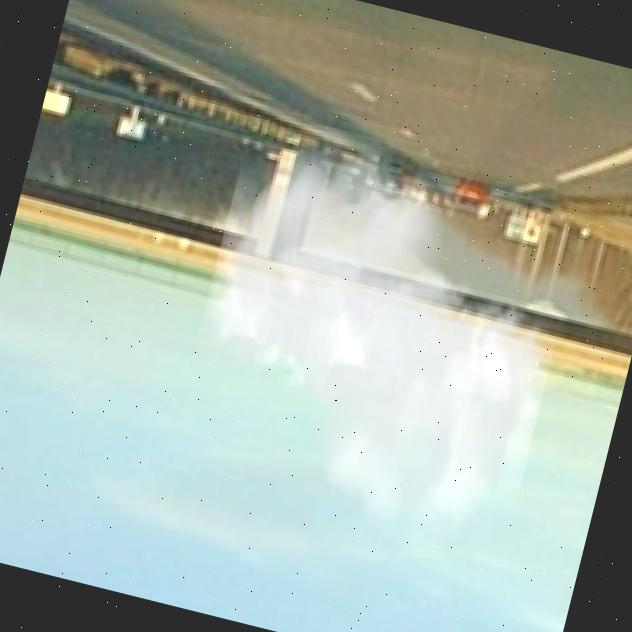smoke: (163, 108, 593, 564)
